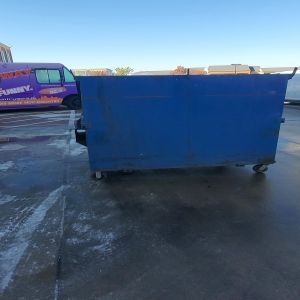Dumpster: (75, 76, 288, 181)
